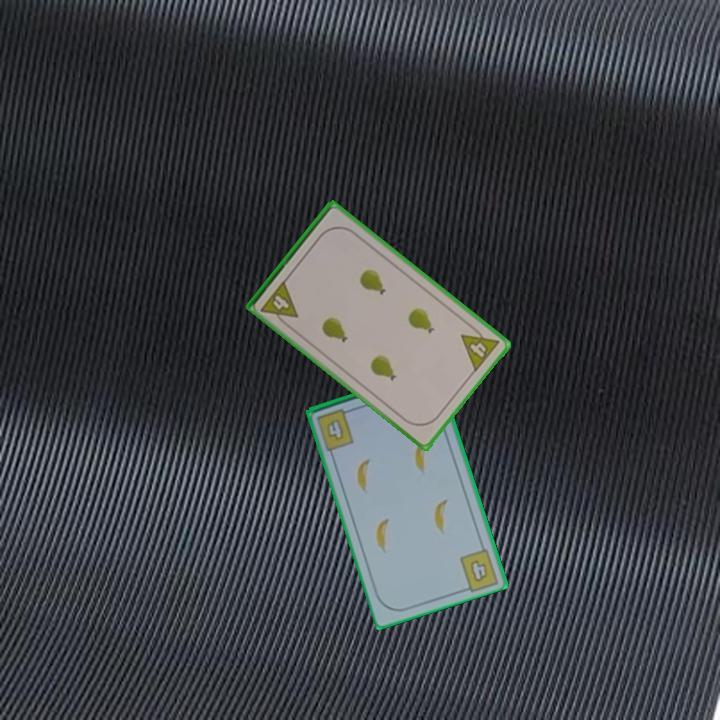4b: (313, 405, 357, 452), (467, 557, 491, 585)
4p: (457, 320, 503, 375), (257, 276, 301, 330)
